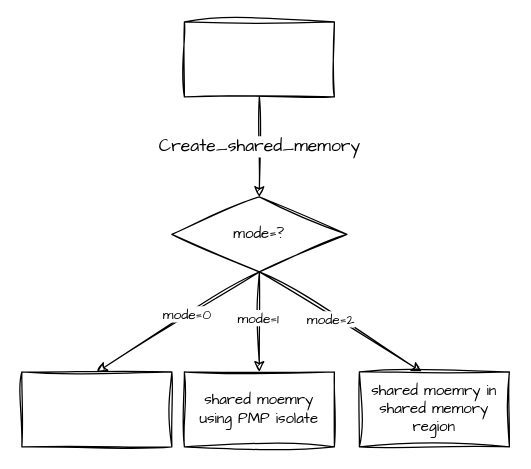
The diagram is 531 pixels wide and 469 high, and some of its shapes have lost their labels. Each missing label, with the centre of its shape:
"Enclaver" belongs at point 258,59.
"shared moemry in same TEE Region" belongs at point 96,409.
